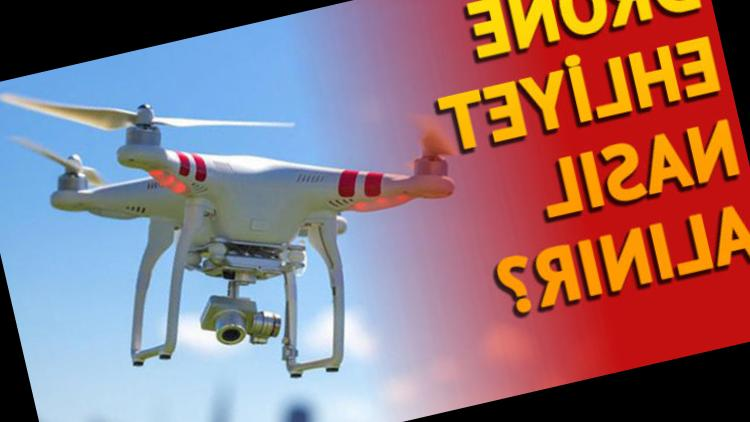drone: (0, 21, 498, 351)
